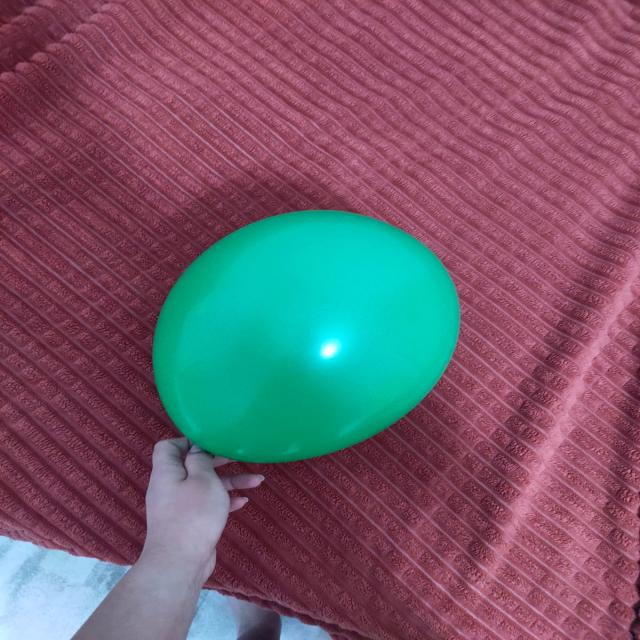green: (154, 211, 466, 467)
